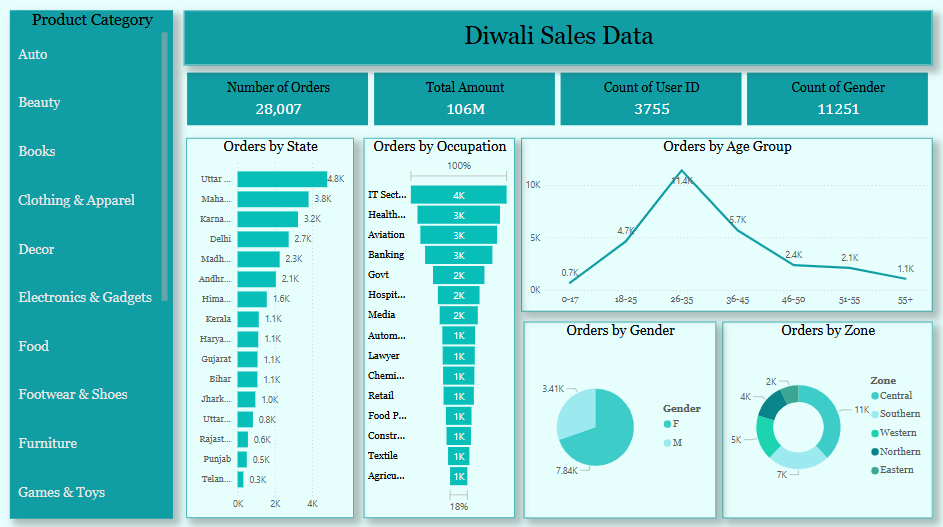

The dashboard page shown, as its layout file describes it:
{"tool":"powerbi","page":{"name":"Page 1","canvas":[1280,720],"ordinal":0},"visuals":[{"type":"advancedSlicerVisual","title":"Product Category","fields":{"Values":["Diwali Sales Data.Product_Category"]},"box":[13.7,16.5,220.9,688.9],"z":0},{"type":"cardVisual","fields":{"Data":["Sum(Diwali Sales Data.Orders)","Sum(Diwali Sales Data.Amount)","Count(Diwali Sales Data.User_ID)","CountNonNull(Diwali Sales Data.Gender)"]},"box":[249.7,96.6,1015.3,81.4],"z":1000},{"type":"clusteredBarChart","title":"State","fields":{"Y":["Sum(Diwali Sales Data.Orders)"],"Category":["Diwali Sales Data.State"]},"box":[249.2,189.8,227.1,515.3],"z":2000},{"type":"shape","box":[249.7,16.9,1015.3,74.6],"z":3000},{"type":"textbox","title":"Diwali Sales Data","box":[378.5,32.2,759.3,44.1],"z":4000},{"type":"lineChart","title":"Orders by Age Group","fields":{"Y":["Sum(Diwali Sales Data.Orders)"],"Category":["Diwali Sales Data.Age Group"]},"box":[707.3,189.8,557.6,235.6],"z":5000},{"type":"pieChart","title":"Orders by Gender","fields":{"Category":["Diwali Sales Data.Gender"],"Y":["CountNonNull(Diwali Sales Data.Orders)"]},"box":[710.2,439,261,266.1],"z":6000},{"type":"donutChart","title":"Orders by Zone","fields":{"Category":["Diwali Sales Data.Zone"],"Y":["Sum(Diwali Sales Data.Orders)"]},"box":[979.7,439,284.7,266.1],"z":7000},{"type":"funnel","title":"Orders by Occupation","fields":{"Category":["Diwali Sales Data.Occupation"],"Y":["Sum(Diwali Sales Data.Orders)"]},"box":[493.2,189.8,205.1,515.3],"z":8000}]}

Visuals, with their boxes in screenshot pixels (x1, y1, x2, y2), scaled from the page's 1280x720 canvas onto the 943x527 screenshot:
"Product Category" advancedSlicerVisual: detection(10, 12, 173, 516)
cardVisual - Sum(Diwali Sales Data.Orders) x Sum(Diwali Sales Data.Amount): detection(184, 71, 932, 130)
"State" clusteredBarChart: detection(184, 139, 351, 516)
shape: detection(184, 12, 932, 67)
"Diwali Sales Data" textbox: detection(279, 24, 838, 56)
"Orders by Age Group" lineChart: detection(521, 139, 932, 311)
"Orders by Gender" pieChart: detection(523, 321, 716, 516)
"Orders by Zone" donutChart: detection(722, 321, 932, 516)
"Orders by Occupation" funnel: detection(363, 139, 514, 516)
